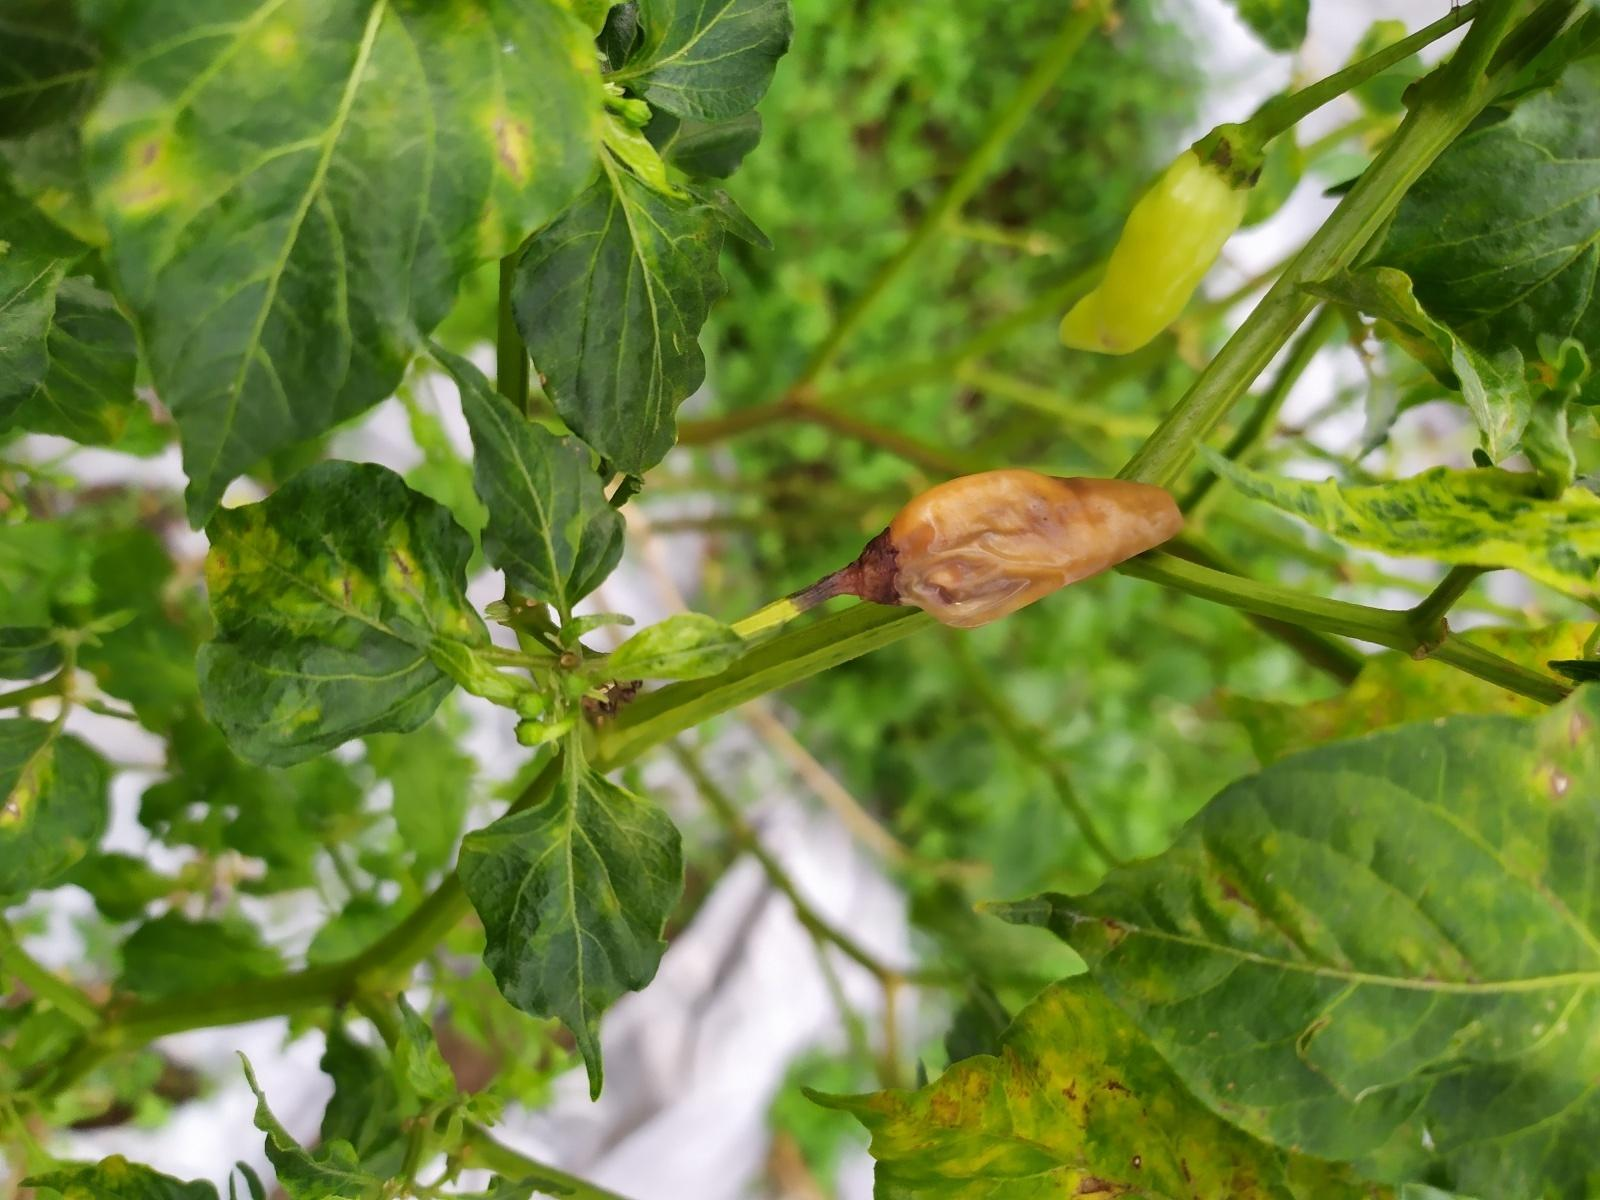cabai_normal: (1057, 145, 1252, 354)
lalat_buah: (859, 466, 1187, 630)
